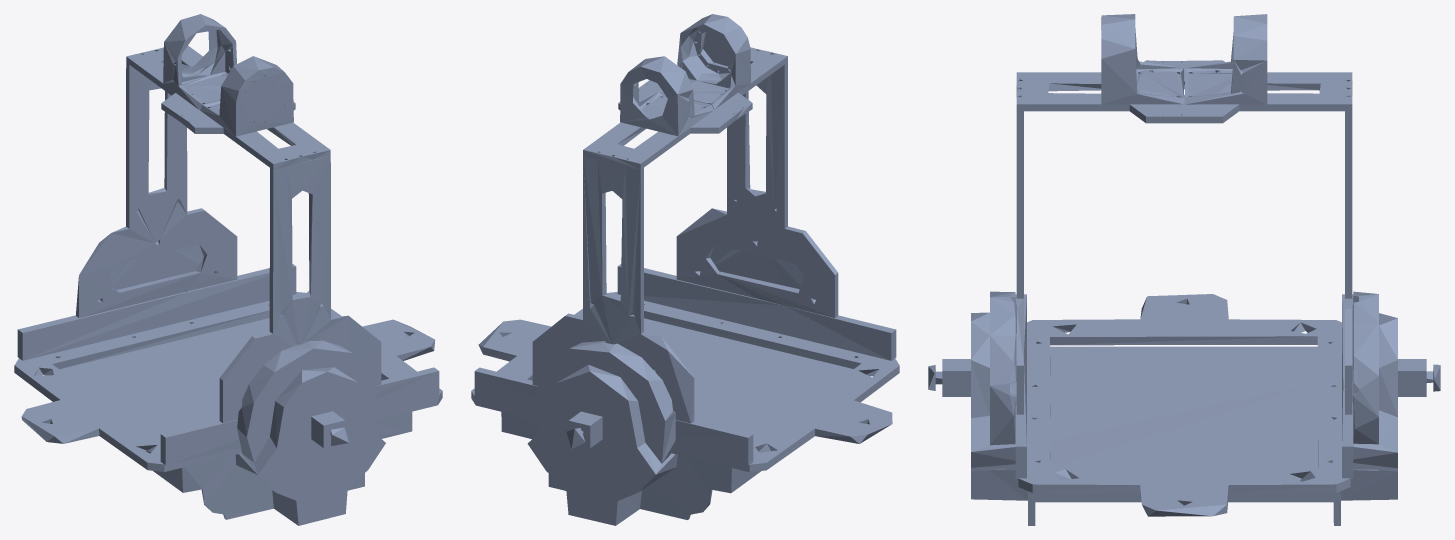
File: segway.dae
3 renders of one model, left to right at view 1: azimuth 30°, elevation 25°; view 2: azimuth 150°, elevation 25°; view 3: azimuth 270°, elevation 25°, orthographic. The views are drawn at different scales.
Parts seen in each view (by area): view 1: Segway; view 2: Segway; view 3: Segway.
Boxes of the visible parts, x1,y1,x2,y2 form: Segway: (14, 14, 442, 525); Segway: (471, 14, 899, 525); Segway: (928, 14, 1440, 525).
Bounding box in the file's own units: 0.54 × 0.54 × 0.5478.
